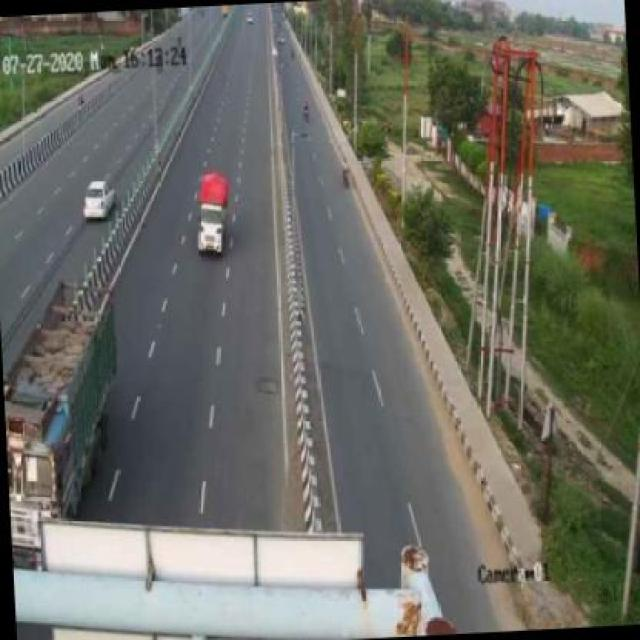car: (188, 171, 237, 260), (81, 177, 117, 223)
